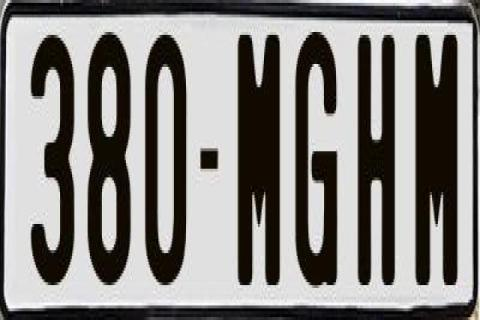0: (146, 35, 194, 299), (28, 29, 78, 279), (84, 29, 128, 288)
G: (292, 32, 340, 300)
H: (354, 27, 394, 286)
M: (236, 35, 284, 285), (412, 29, 456, 288)
